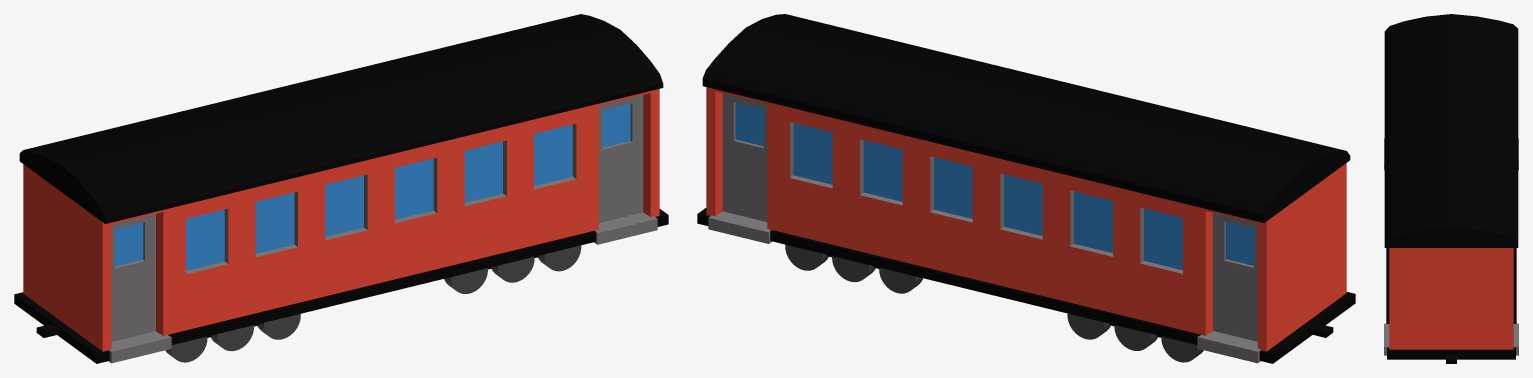
File: PassengerCar.glb
The picture shows the model from 3 angles, left to right: view 1: azimuth 30°, elevation 25°; view 2: azimuth 150°, elevation 25°; view 3: azimuth 270°, elevation 25°; orthographic projection. The views are drawn at different scales.
Parts seen in each view (by area): view 1: Cube.001, Cube.002, Cube.003, Cube.004, Cube.005, Cylinder.003, Cylinder.002, Cylinder; view 2: Cube.001, Cube.002, Cube.003, Cube.004, Cube.005, Cylinder.003, Cylinder.002, Cylinder; view 3: Cube.002, Cube.001, Cube.005, Cube.003, Cube.004.
Part boxes in pixels (x1,y1,x2,y2): Cube.001: (23, 89, 659, 351); Cube.002: (19, 14, 663, 223); Cube.003: (168, 230, 596, 344); Cube.004: (108, 215, 657, 363); Cube.005: (14, 209, 668, 363); Cylinder.003: (257, 268, 487, 339); Cylinder.002: (211, 257, 534, 351); Cylinder: (165, 245, 581, 362); Cube.001: (706, 87, 1346, 351); Cube.002: (702, 14, 1350, 222); Cube.003: (770, 230, 1200, 344); Cube.004: (708, 214, 1261, 363); Cube.005: (697, 208, 1355, 363); Cylinder.003: (879, 267, 1110, 339); Cylinder.002: (832, 256, 1157, 350); Cylinder: (785, 244, 1203, 362); Cube.002: (1384, 14, 1518, 247); Cube.001: (1389, 248, 1513, 349); Cube.005: (1387, 347, 1515, 359); Cube.003: (1386, 248, 1516, 323); Cube.004: (1384, 138, 1518, 355).
Bounding box in the file's own units: 9.44 × 2.9 × 2.34.
